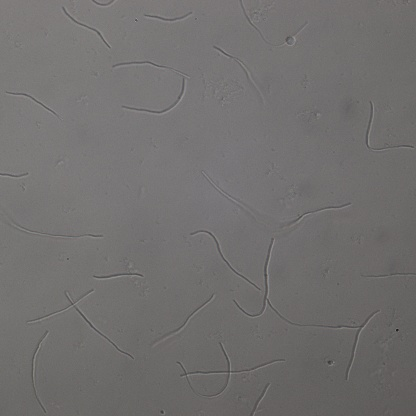Sensitive: (234, 238, 361, 336), (27, 290, 132, 357), (176, 343, 288, 399), (111, 61, 191, 115), (189, 229, 260, 289), (152, 293, 214, 346), (1, 208, 103, 240), (238, 1, 307, 47), (363, 100, 415, 153), (214, 46, 263, 99), (347, 309, 380, 387), (202, 171, 256, 217), (28, 330, 54, 413), (63, 8, 111, 48), (285, 203, 353, 225), (7, 91, 59, 118), (92, 269, 146, 283), (143, 12, 192, 26)
